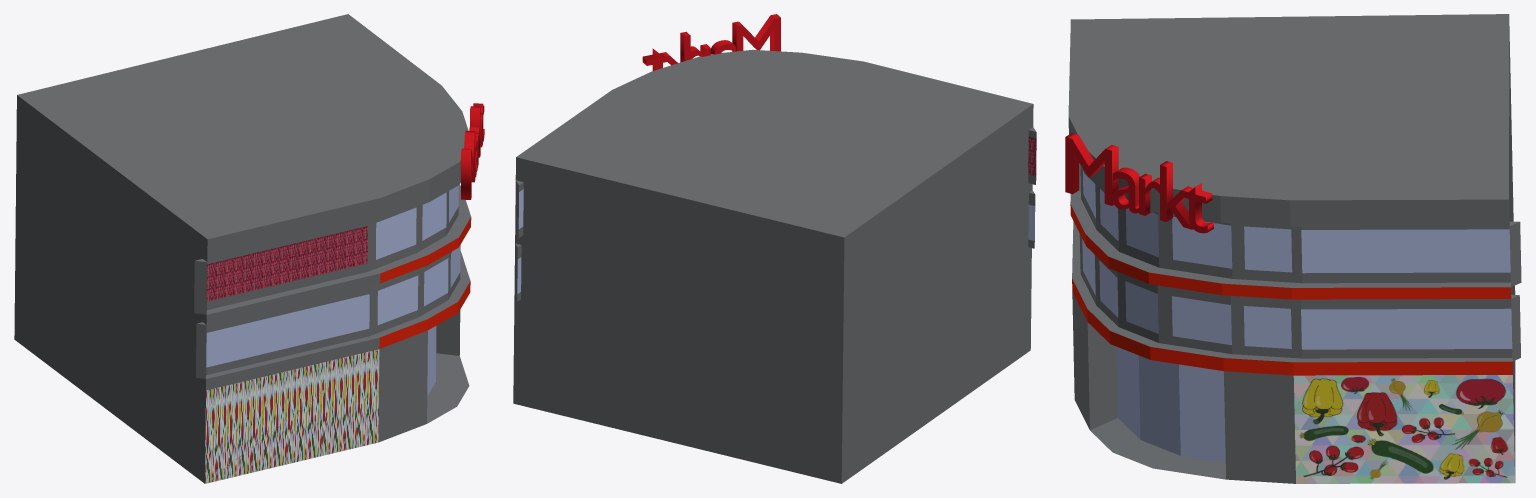
File: Supermarkt.fbx
3 views of the same model, side by side, from view 1: azimuth 30°, elevation 25°; view 2: azimuth 150°, elevation 25°; view 3: azimuth 270°, elevation 25° (orthographic). The views are drawn at different scales.
Visible parts, largest first — view 1: Cube, Logo; view 2: Cube, Logo; view 3: Cube, Logo.
Part boxes in pixels (bbox=[...]): Cube: bbox=[14, 14, 471, 483]; Logo: bbox=[461, 103, 484, 199]; Cube: bbox=[513, 49, 1036, 483]; Logo: bbox=[642, 14, 780, 70]; Cube: bbox=[1068, 14, 1521, 483]; Logo: bbox=[1065, 133, 1213, 233].
Bounding box in the file's own units: 510 × 511 × 386.
7 materials, 3 textured.
